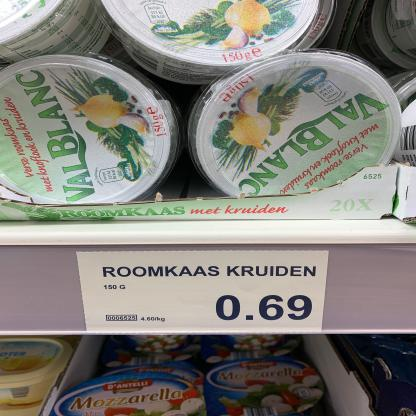prtg: (76, 251, 330, 334)
